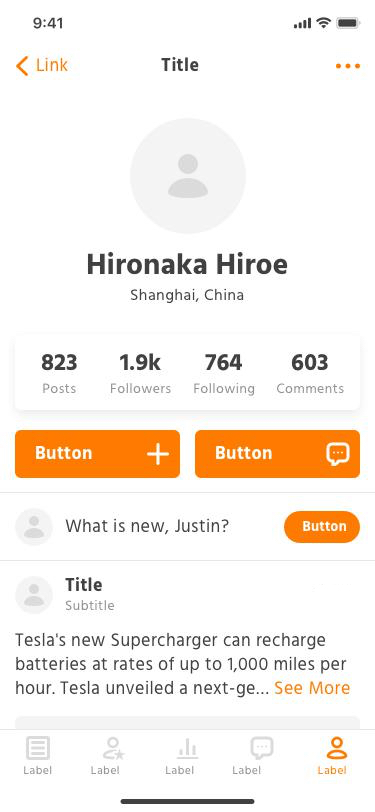Icon: (130, 119, 245, 234), (15, 508, 54, 548), (15, 575, 54, 615), (26, 735, 52, 761), (249, 735, 274, 760), (102, 736, 127, 760), (175, 737, 199, 760), (325, 736, 348, 760), (16, 56, 31, 78), (335, 63, 361, 70)
Text: (15, 632, 351, 699), (88, 252, 288, 276), (65, 518, 230, 535), (131, 288, 245, 305), (192, 381, 255, 397), (276, 383, 346, 396), (119, 353, 162, 371), (205, 353, 244, 372), (111, 382, 172, 394), (291, 353, 329, 371), (41, 354, 79, 371), (161, 57, 200, 73), (65, 600, 116, 612), (36, 56, 69, 74), (65, 577, 104, 592), (43, 382, 77, 395), (89, 764, 121, 776), (317, 764, 348, 776), (22, 765, 53, 776), (232, 764, 262, 775), (166, 765, 196, 776)
TextButton: (195, 430, 361, 479), (16, 430, 181, 478), (284, 511, 360, 544)
UpperTaskBar: (34, 16, 361, 30)
